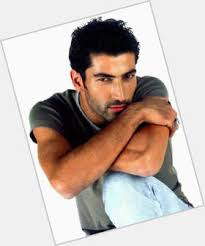middle_eastern_male: (84, 46, 140, 117)
